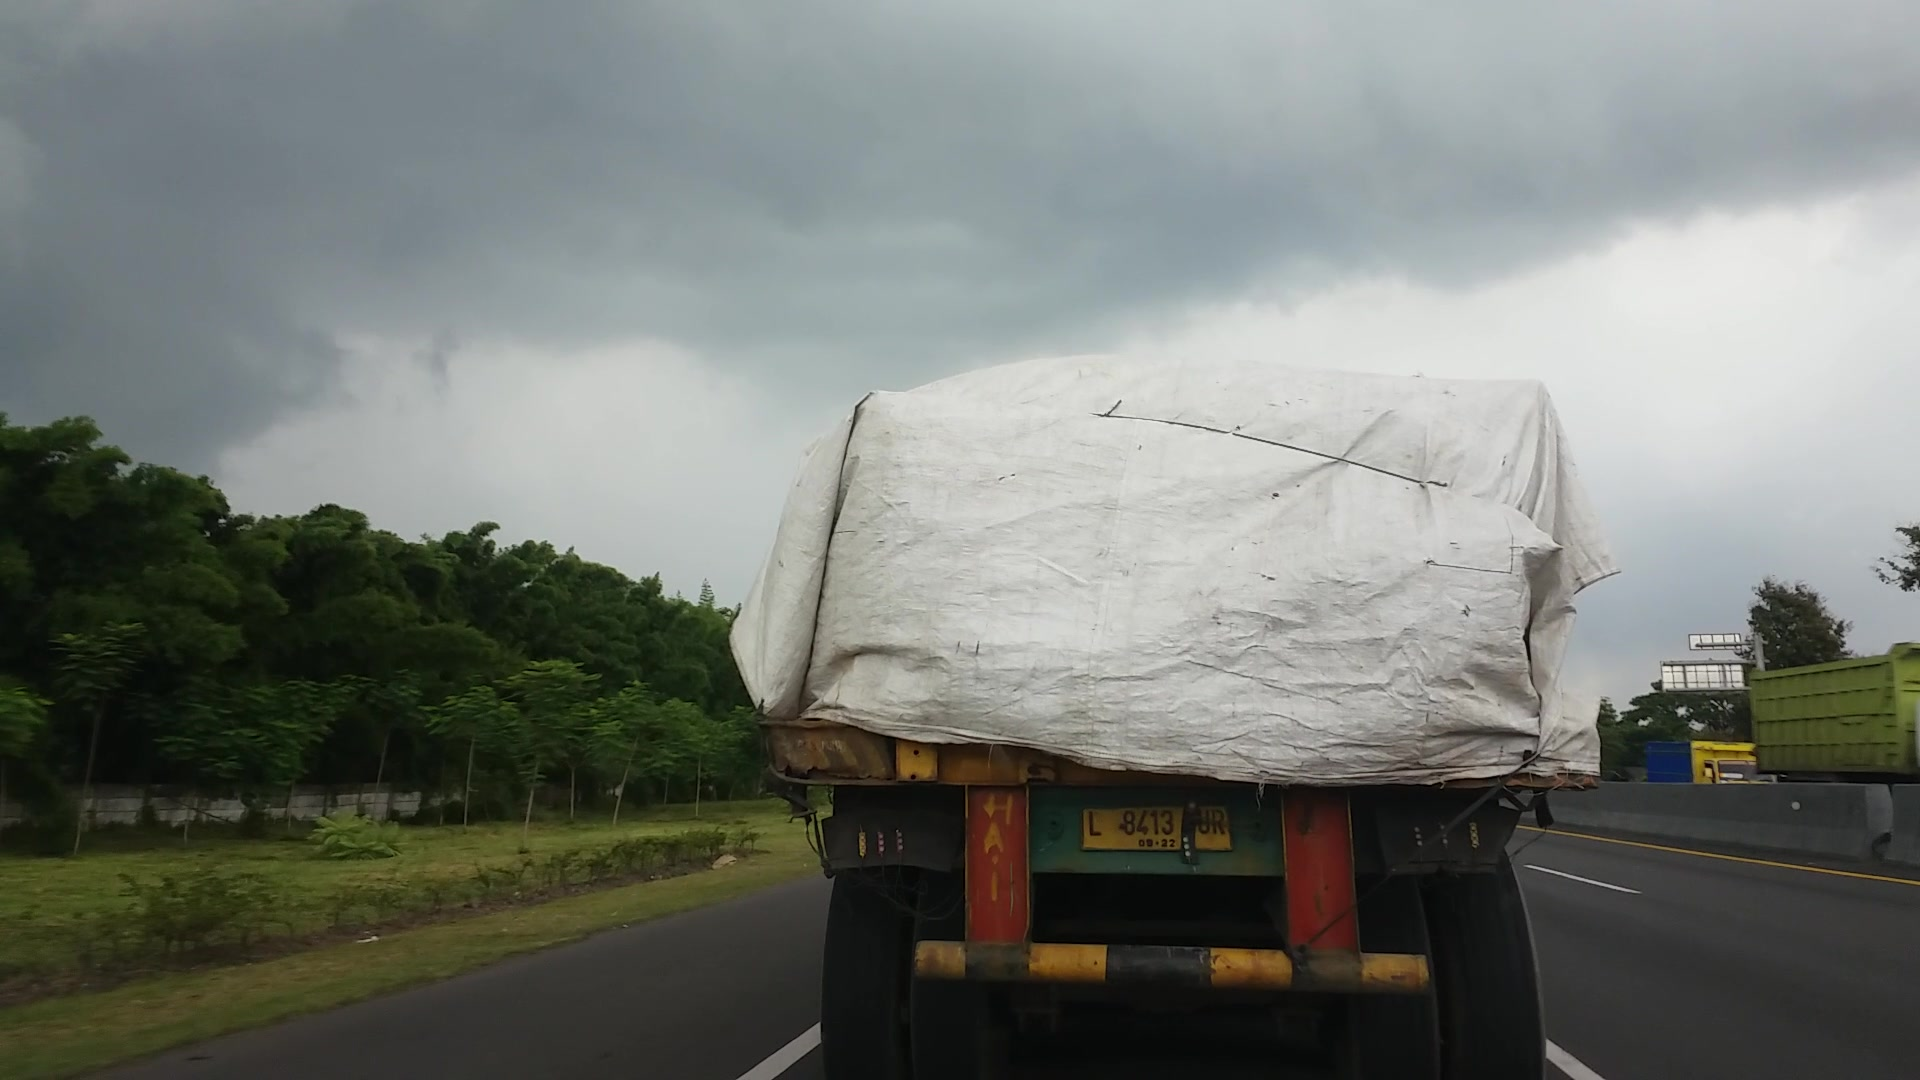plate_positive: (1081, 806, 1233, 853)
